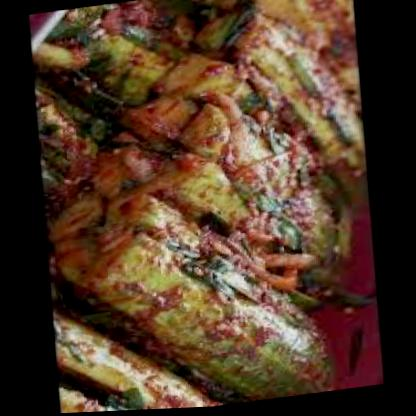cucumber kimchi: (21, 0, 387, 414)
